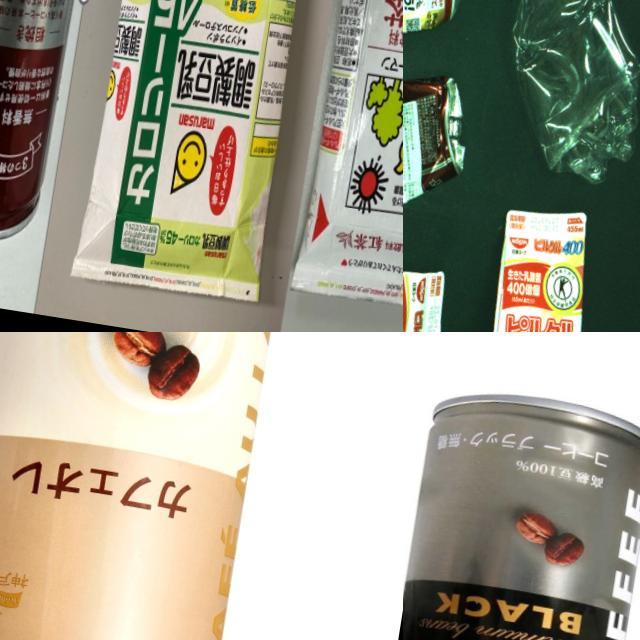Aluminium Foil: (73, 0, 345, 308), (287, 0, 403, 320), (468, 205, 615, 332)
Can: (0, 332, 301, 640), (403, 370, 640, 640), (0, 0, 105, 254), (403, 60, 474, 218)
Transparent Plastic Bottle: (473, 0, 640, 188)
